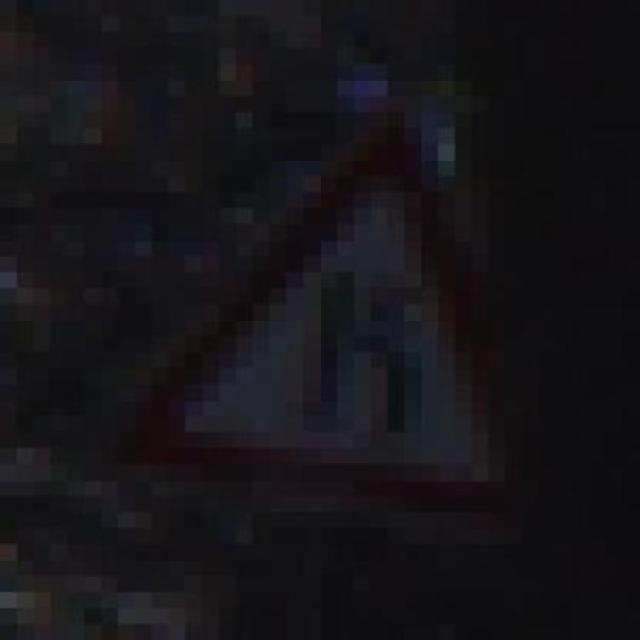-Road narrows on right: (118, 80, 539, 512)
